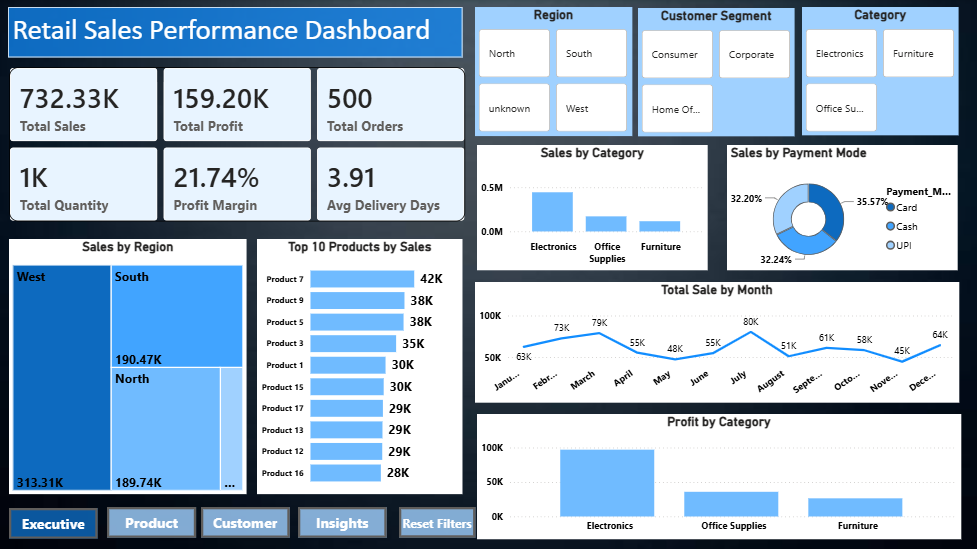

The page's visual inventory and layout, read from the dashboard file:
{"tool":"powerbi","page":{"name":"Executive Dashboard","canvas":[1280,720],"ordinal":0},"visuals":[{"type":"cardVisual","fields":{"Data":["Orders(1).Total_Sale","Orders(1).Total_Profit","Orders(1).Total_Orders","Orders(1).Total_Quantity","Orders(1).Profit_Margine","Orders(1).Average_Delivery_Days"]},"box":[0,77.8,622.1,226.1],"z":0},{"type":"lineChart","fields":{"Category":["Orders(1).Order_Date.Variation.Date Hierarchy.Month"],"Y":["Orders(1).Total_Sale"]},"box":[622.1,370.1,633.6,158.4],"z":1000},{"type":"clusteredColumnChart","title":"Sales by  Category","fields":{"Category":["Products(1).Category"],"Y":["Orders(1).Total_Sale"]},"box":[625,191.5,302,164.2],"z":2000},{"type":"clusteredColumnChart","title":"Profit by Category","fields":{"Category":["Products(1).Category"],"Y":["Orders(1).Total_Profit"]},"box":[625,542.9,633.6,164.2],"z":3000},{"type":"advancedSlicerVisual","fields":{"Values":["Products(1).Category"]},"box":[1049.9,10.5,205,168],"z":4000},{"type":"advancedSlicerVisual","fields":{"Values":["Customers(1).Region"]},"box":[621.8,10.5,205.5,168.9],"z":5000},{"type":"advancedSlicerVisual","title":"Customer Segment","fields":{"Values":["Customers(1).Segment"]},"box":[835.2,11.8,205,168],"z":6000},{"type":"clusteredBarChart","title":"Top 10 Products by Sales","fields":{"Category":["Products(1).Product_Name"],"Y":["Orders(1).Total_Sale"]},"box":[337,313.9,269.3,334.1],"z":7000},{"type":"treemap","title":"Sales by Region","fields":{"Group":["Customers(1).Region"],"Values":["Orders(1).Total_Sale"]},"box":[11.5,313.9,311,334.1],"z":8000},{"type":"textbox","box":[11,11,594.6,66.1],"z":9000},{"type":"donutChart","title":" Sales  by Payment Mode","fields":{"Category":["Orders(1).Payment_Mode"],"Y":["Orders(1).Total_Sale"]},"box":[951.8,191.5,302.4,164.2],"z":10000},{"type":"actionButton","box":[11.5,666.7,116,40.3],"z":11000},{"type":"actionButton","box":[139.7,665.3,116.6,40.3],"z":12000},{"type":"actionButton","box":[263.5,665.3,116,40.3],"z":13000},{"type":"actionButton","box":[390.2,665.3,116,40.3],"z":14000},{"type":"actionButton","box":[522.7,665.3,100,40],"z":15000}]}

Visuals, with their boxes in screenshot pixels (x1, y1, x2, y2), scaled from the page's 1280x720 canvas onto the 977x549 screenshot:
cardVisual - Orders(1).Total_Sale x Orders(1).Total_Profit: [0,59,475,232]
lineChart - Orders(1).Order_Date.Variation.Date Hierarchy.Month x Orders(1).Total_Sale: [475,282,958,403]
"Sales by  Category" clusteredColumnChart: [477,146,708,271]
"Profit by Category" clusteredColumnChart: [477,414,961,539]
advancedSlicerVisual - Products(1).Category: [801,8,958,136]
advancedSlicerVisual - Customers(1).Region: [475,8,631,137]
"Customer Segment" advancedSlicerVisual: [637,9,794,137]
"Top 10 Products by Sales" clusteredBarChart: [257,239,463,494]
"Sales by Region" treemap: [9,239,246,494]
textbox: [8,8,462,59]
" Sales  by Payment Mode" donutChart: [726,146,957,271]
actionButton: [9,508,97,539]
actionButton: [107,507,196,538]
actionButton: [201,507,290,538]
actionButton: [298,507,386,538]
actionButton: [399,507,475,538]
